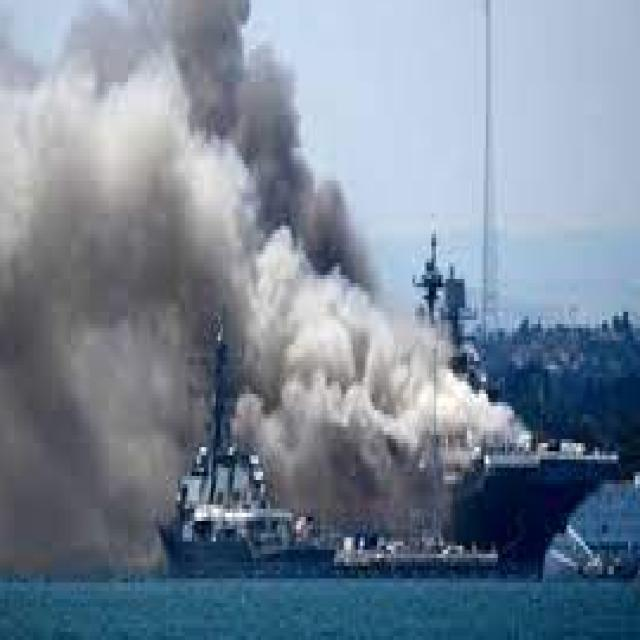navalvessels: (138, 148, 596, 582)
